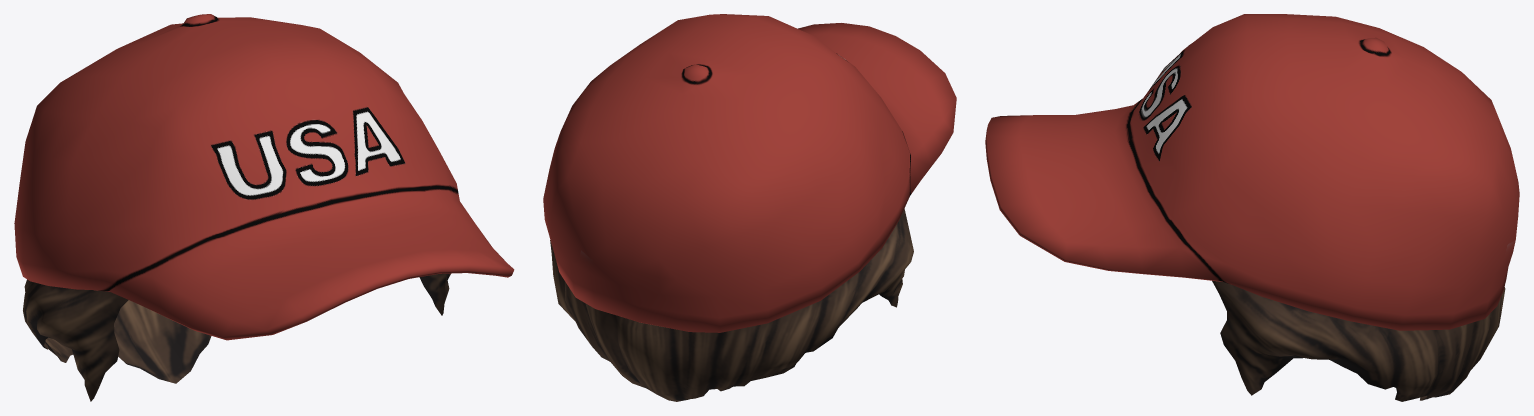
File: PC_M_Fat_Hair.fbx
The picture shows the model from 3 angles, left to right: view 1: azimuth 30°, elevation 25°; view 2: azimuth 150°, elevation 25°; view 3: azimuth 270°, elevation 25°; orthographic projection. The views are drawn at different scales.
Parts seen in each view (by area): view 1: PC_M_Hair_Fat; view 2: PC_M_Hair_Fat; view 3: PC_M_Hair_Fat.
Part boxes in pixels (left/top/right/bottom): PC_M_Hair_Fat: left=14, top=14, right=514, bottom=401; PC_M_Hair_Fat: left=543, top=14, right=956, bottom=401; PC_M_Hair_Fat: left=985, top=14, right=1519, bottom=401.
Size of the model in its own units: 46.73 by 43.23 by 56.8.
